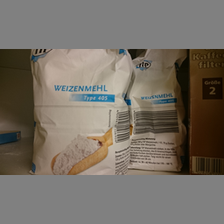flour: (30, 49, 129, 176), (128, 50, 187, 172)
